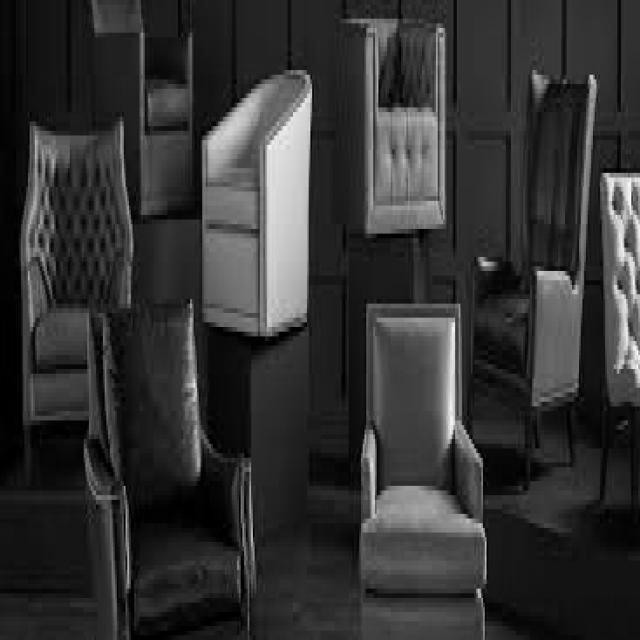chair: (86, 300, 260, 638), (468, 69, 598, 483), (358, 294, 487, 640), (19, 112, 137, 467), (201, 68, 310, 334), (336, 18, 456, 242), (81, 2, 198, 220), (596, 167, 640, 532)
